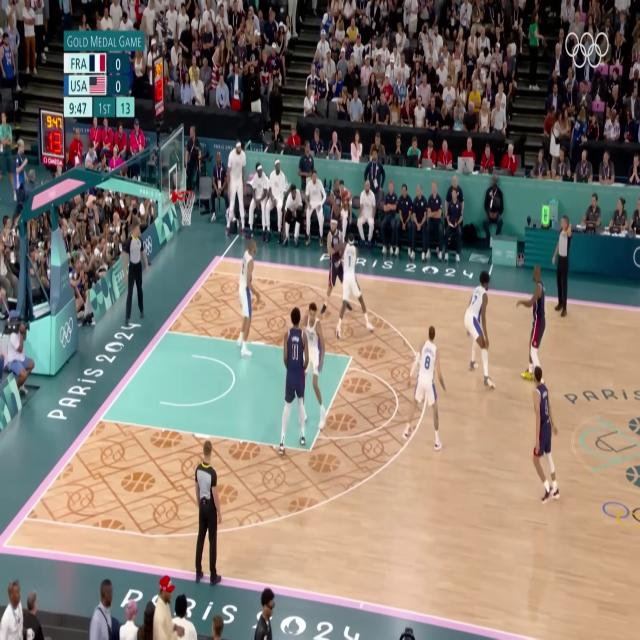player: (509, 362, 574, 508), (410, 314, 452, 470), (272, 306, 316, 454), (511, 265, 561, 382), (334, 222, 374, 347), (459, 270, 498, 388), (300, 299, 329, 434), (231, 233, 261, 355), (318, 213, 349, 325)
